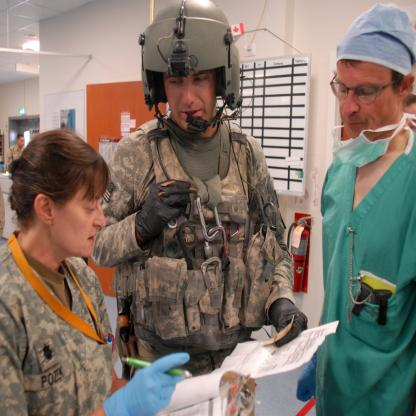Helmet: (138, 0, 247, 143)
